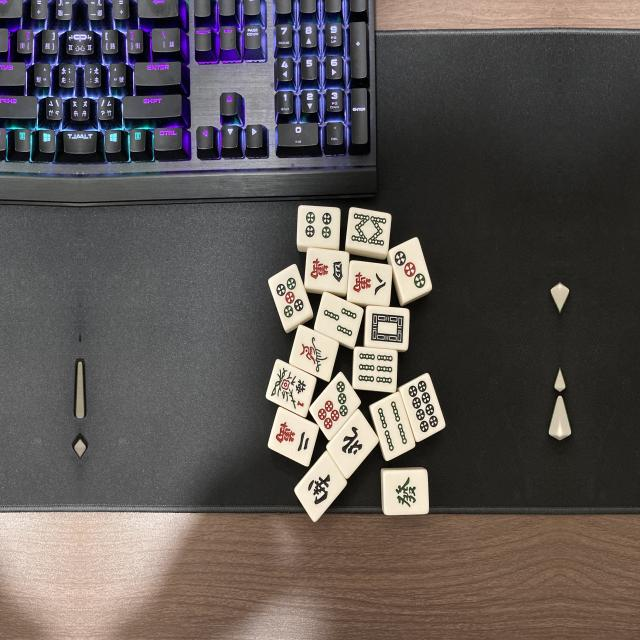bai: (366, 307, 408, 349)
f1: (265, 362, 316, 416)
fa: (385, 472, 428, 516)
m2: (267, 407, 319, 466)
m4: (305, 251, 348, 294)
m8: (347, 263, 391, 307)
north: (327, 413, 377, 479)
s1: (290, 327, 338, 380)
s3: (318, 295, 364, 344)
s4: (370, 395, 416, 461)
s6: (354, 348, 398, 392)
s8: (346, 208, 391, 250)
south: (295, 456, 348, 522)
t3: (391, 240, 434, 305)
t4: (298, 205, 340, 247)
t5: (269, 264, 313, 330)
t7: (311, 373, 362, 439)
t8: (400, 376, 447, 444)
